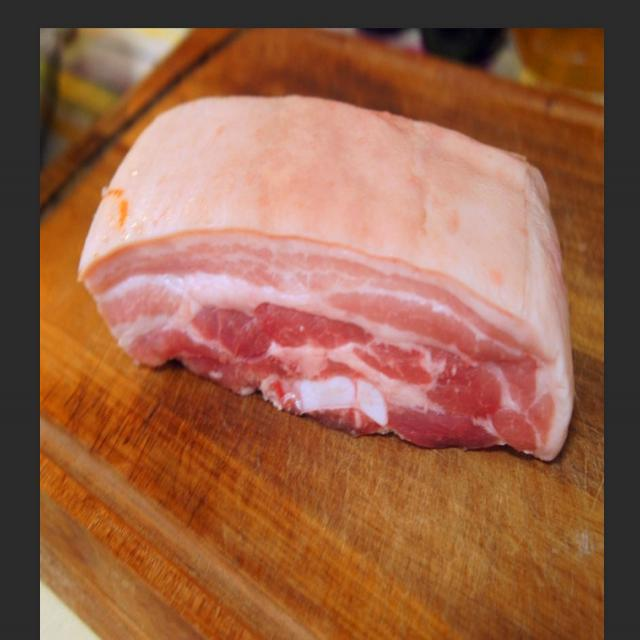pork: (73, 91, 578, 472)
